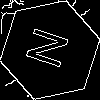N: (25, 25, 78, 74)
